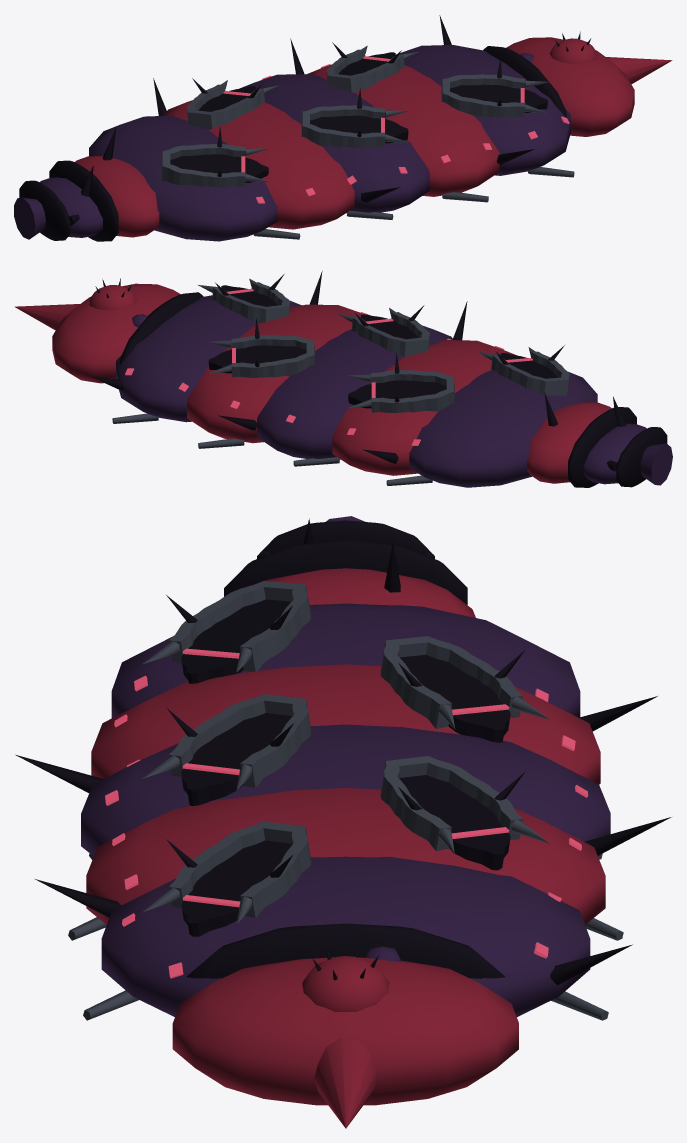
The model's file is succentor-directorate.glb.
3 renders of one model, top to bottom at view 1: azimuth 30°, elevation 25°; view 2: azimuth 150°, elevation 25°; view 3: azimuth 270°, elevation 25°, orthographic. The views are drawn at different scales.
Parts seen in each view (by area): view 1: tergite_2, tergite_3, tergite_5, tergite_4, tergite_6, tergite_7, tergite_1, cradle_s2_coaming, cradle_s1_coaming, cradle_s0_coaming, tergite_ridge_1, tergite_0 (+12 smaller); view 2: tergite_2, tergite_4, tergite_6, tergite_3, tergite_5, tergite_7, tergite_1, cradle_p1_coaming, cradle_p0_coaming, tergite_ridge_1, tergite_0, cradle_s2_coaming (+14 smaller); view 3: tergite_6, tergite_7, tergite_5, tergite_4, tergite_3, tergite_2, tergite_ridge_7, tergite_ridge_1, tergite_1, cradle_s0_coaming, cradle_p0_coaming, cradle_p1_coaming (+16 smaller).
Boxes of the visible parts, x1=… form: tergite_2: x1=89, y1=115, x2=277, y2=241; tergite_3: x1=163, y1=100, x2=354, y2=229; tergite_5: x1=308, y1=64, x2=499, y2=196; tergite_4: x1=240, y1=74, x2=429, y2=213; tergite_6: x1=396, y1=45, x2=570, y2=175; tergite_7: x1=506, y1=37, x2=634, y2=136; tergite_1: x1=75, y1=156, x2=159, y2=237; cradle_s2_coaming: x1=162, y1=144, x2=245, y2=187; cradle_s1_coaming: x1=301, y1=105, x2=385, y2=147; cradle_s0_coaming: x1=441, y1=74, x2=525, y2=117; tergite_ridge_1: x1=49, y1=160, x2=118, y2=241; tergite_0: x1=40, y1=177, x2=102, y2=237; tergite_2: x1=409, y1=370, x2=597, y2=487; tergite_4: x1=257, y1=326, x2=453, y2=459; tergite_6: x1=116, y1=295, x2=301, y2=422; tergite_3: x1=332, y1=340, x2=516, y2=475; tergite_5: x1=187, y1=304, x2=363, y2=443; tergite_7: x1=52, y1=283, x2=180, y2=383; tergite_1: x1=527, y1=402, x2=611, y2=483; cradle_p1_coaming: x1=371, y1=370, x2=454, y2=412; cradle_p0_coaming: x1=231, y1=335, x2=315, y2=377; tergite_ridge_1: x1=568, y1=407, x2=636, y2=487; tergite_0: x1=583, y1=423, x2=646, y2=484; cradle_s2_coaming: x1=491, y1=351, x2=569, y2=395; tergite_6: x1=101, y1=856, x2=590, y2=1016; tergite_7: x1=172, y1=957, x2=518, y2=1105; tergite_5: x1=86, y1=788, x2=605, y2=924; tergite_4: x1=81, y1=724, x2=610, y2=856; tergite_3: x1=91, y1=664, x2=600, y2=784; tergite_2: x1=111, y1=603, x2=580, y2=717; tergite_ridge_7: x1=186, y1=923, x2=505, y2=978; tergite_ridge_1: x1=224, y1=540, x2=467, y2=604; tergite_1: x1=265, y1=568, x2=475, y2=617; cradle_s0_coaming: x1=169, y1=821, x2=311, y2=917; cradle_p0_coaming: x1=380, y1=756, x2=522, y2=851; cradle_p1_coaming: x1=380, y1=636, x2=522, y2=728.
Bounding box in the file's own units: 130 × 19.93 × 62.74.
